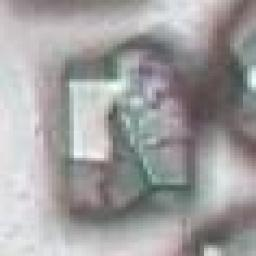crystals: (50, 29, 204, 227)
